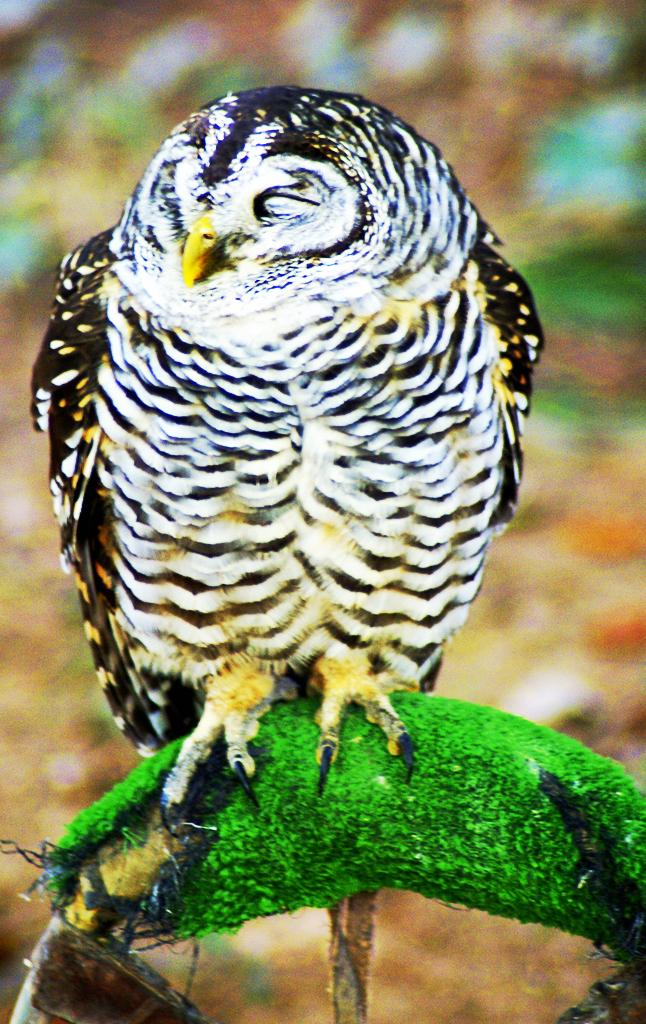Owl: (28, 82, 543, 836)
